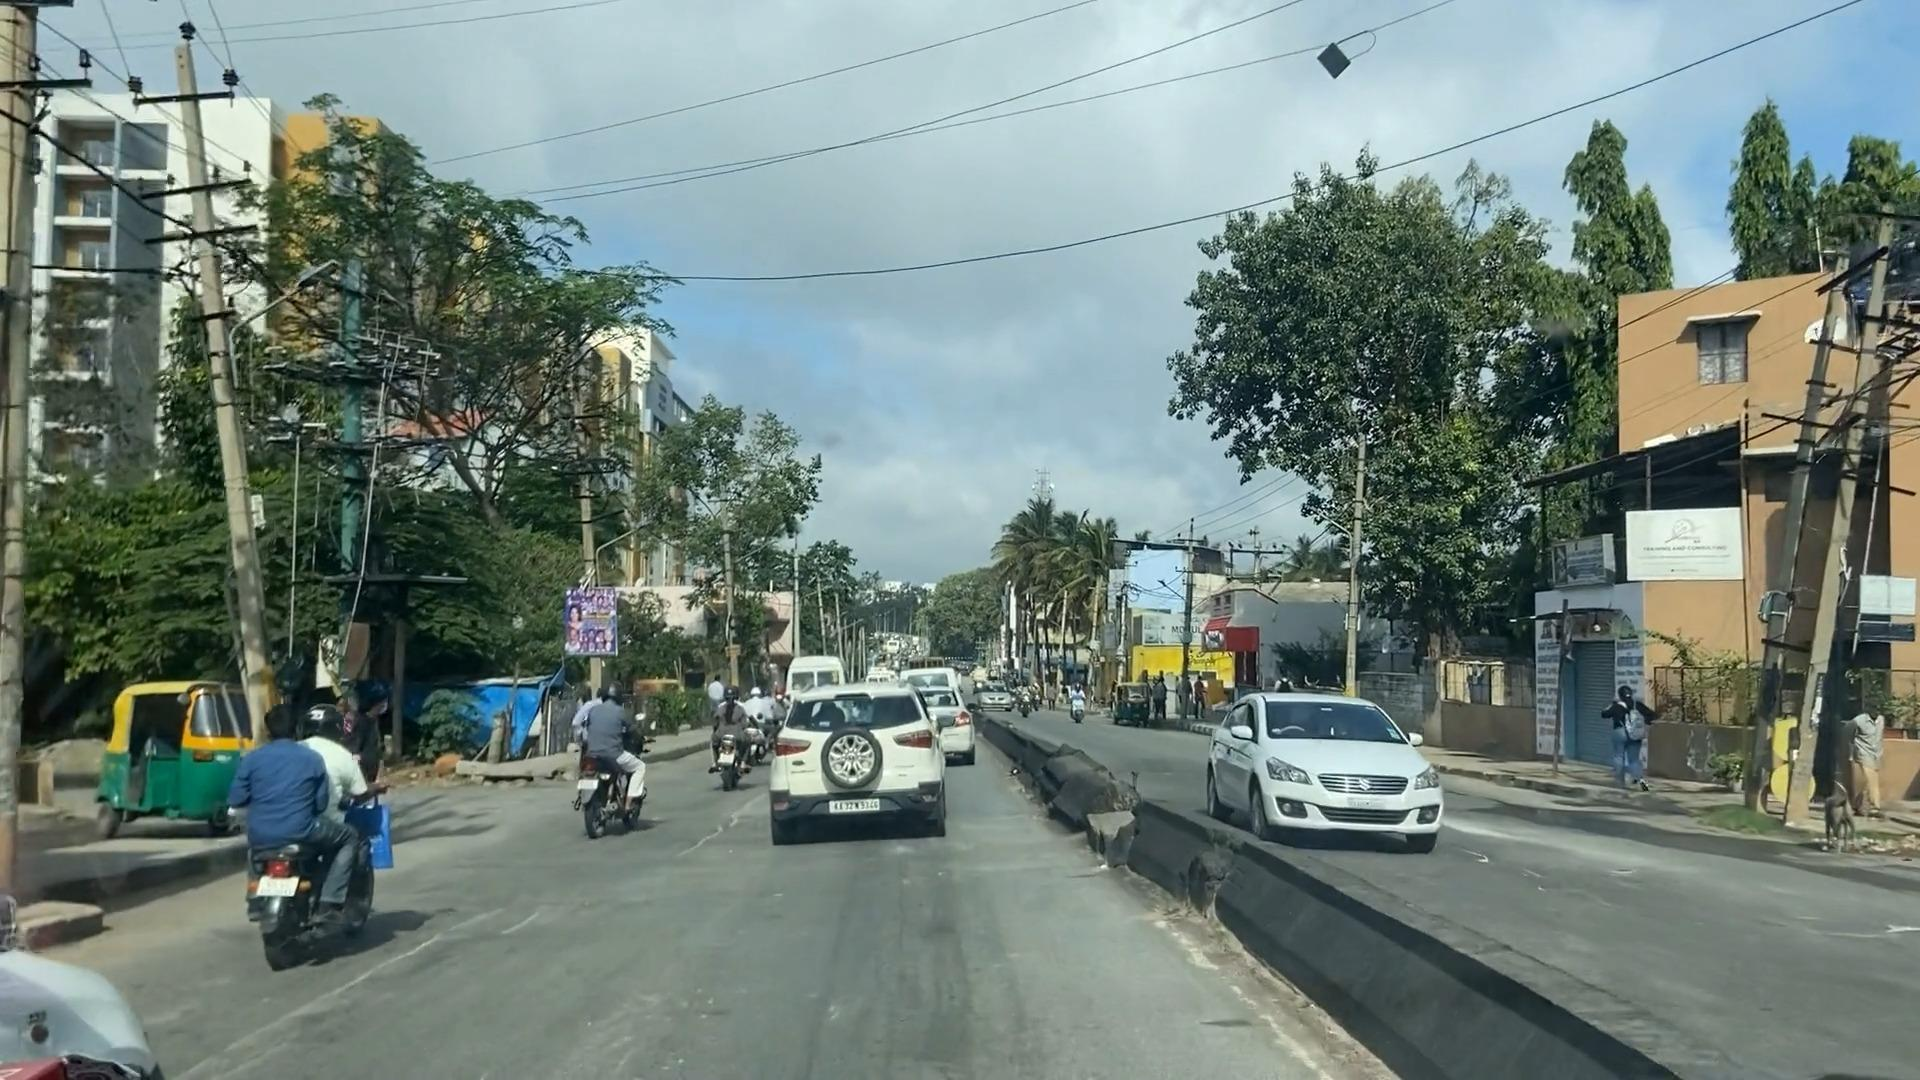LMV: (236, 694, 371, 944), (774, 694, 945, 831), (576, 694, 644, 851), (704, 690, 760, 798)
RoadDamages: (240, 897, 537, 1058), (698, 790, 753, 866)
